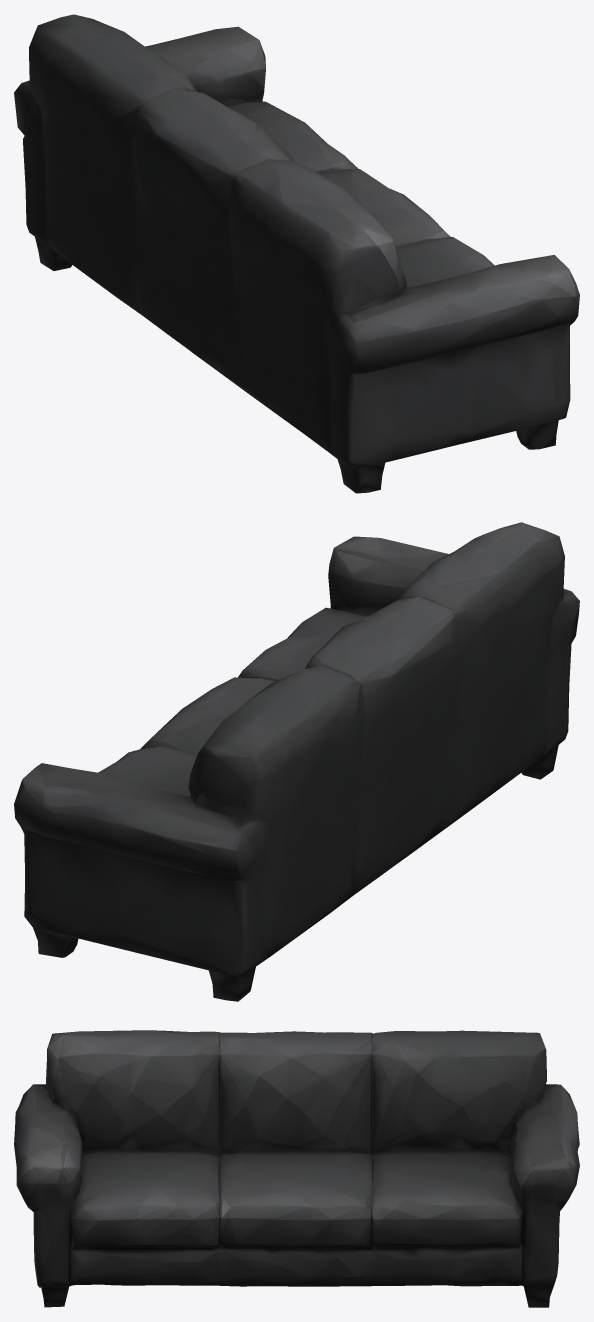
File: club_sofa.glb
3 renders of one model, top to bottom at view 1: azimuth 30°, elevation 25°; view 2: azimuth 150°, elevation 25°; view 3: azimuth 270°, elevation 25°, orthographic. The views are drawn at different scales.
Parts seen in each view (by area): view 1: tripo_node_c1dacd91-bd57-4b95-8737-6534e33e3338; view 2: tripo_node_c1dacd91-bd57-4b95-8737-6534e33e3338; view 3: tripo_node_c1dacd91-bd57-4b95-8737-6534e33e3338.
Part boxes in pixels (x1=…): tripo_node_c1dacd91-bd57-4b95-8737-6534e33e3338: x1=14, y1=14, x2=579, y2=493; tripo_node_c1dacd91-bd57-4b95-8737-6534e33e3338: x1=14, y1=522, x2=579, y2=1001; tripo_node_c1dacd91-bd57-4b95-8737-6534e33e3338: x1=14, y1=1030, x2=579, y2=1307.
Bounding box in the file's own units: 0.39 × 0.393 × 1.
1 material, 1 textured.
